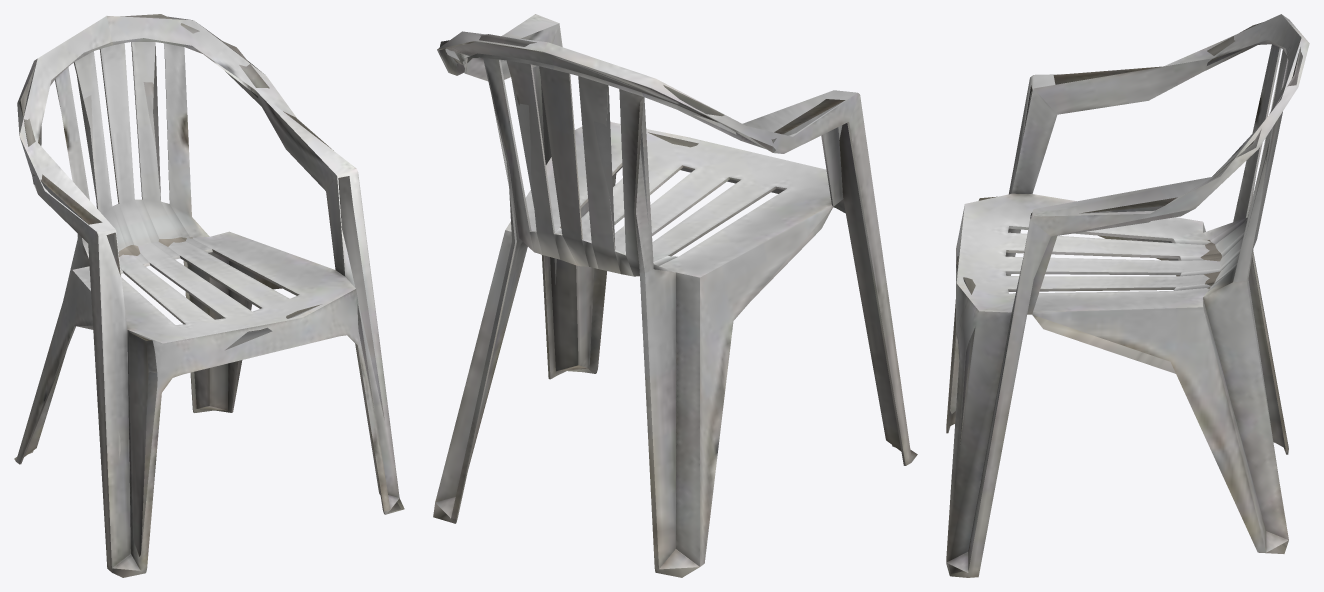
Rendered from monobloc_chair_low.glb.
3 renders of one model, left to right at view 1: azimuth 30°, elevation 25°; view 2: azimuth 150°, elevation 25°; view 3: azimuth 270°, elevation 25°, orthographic. The views are drawn at different scales.
Parts seen in each view (by area): view 1: plastic_monobloc_chair_01; view 2: plastic_monobloc_chair_01; view 3: plastic_monobloc_chair_01.
Boxes of the visible parts, bbox=[...] form: plastic_monobloc_chair_01: bbox=[14, 14, 404, 577]; plastic_monobloc_chair_01: bbox=[433, 14, 917, 577]; plastic_monobloc_chair_01: bbox=[946, 14, 1309, 577].
Bounding box in the file's own units: 0.6419 × 0.8798 × 0.6276.
1 material, 1 textured.
